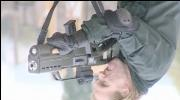gun: (26, 20, 114, 84)
